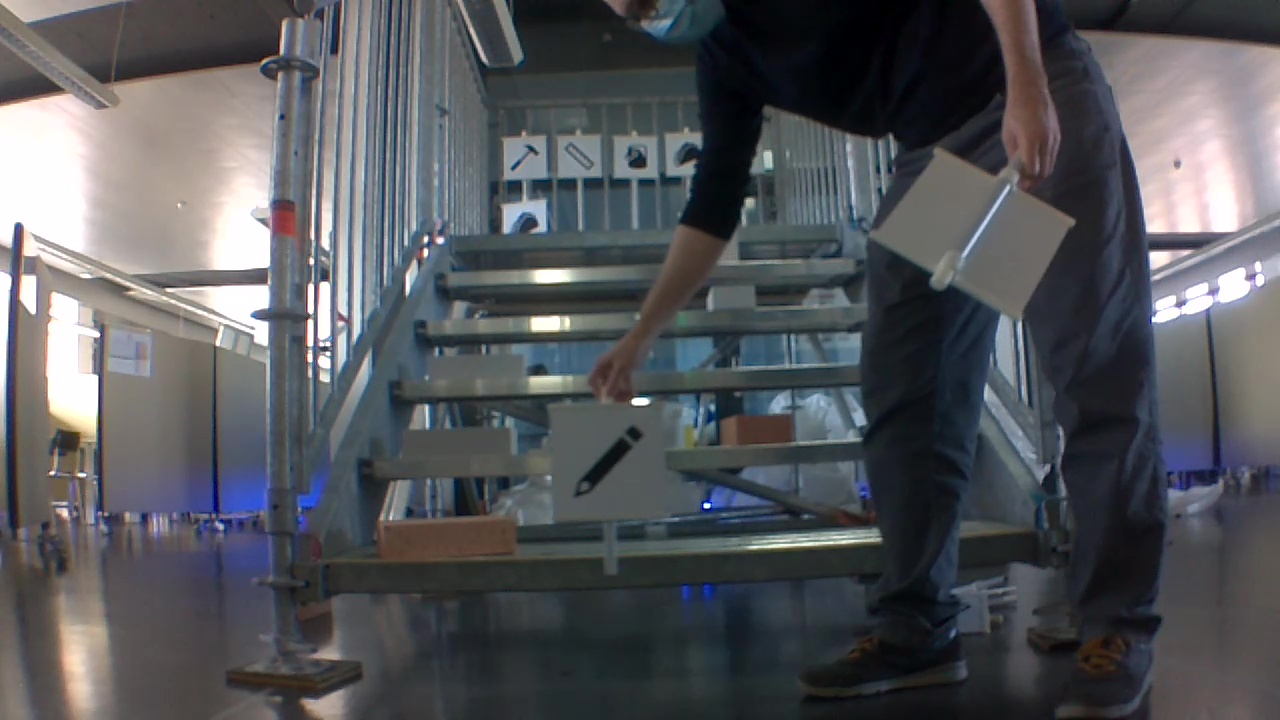brick: (374, 515, 526, 563), (403, 425, 519, 464), (424, 352, 528, 382), (722, 412, 796, 447), (708, 285, 758, 314), (721, 232, 743, 261)
bucket: (622, 143, 650, 170)
edge: (321, 538, 881, 601)
hammer: (507, 142, 539, 172)
pencil: (572, 422, 649, 500)
ruler: (564, 141, 595, 172)
taco: (507, 208, 541, 235), (671, 139, 701, 168)
